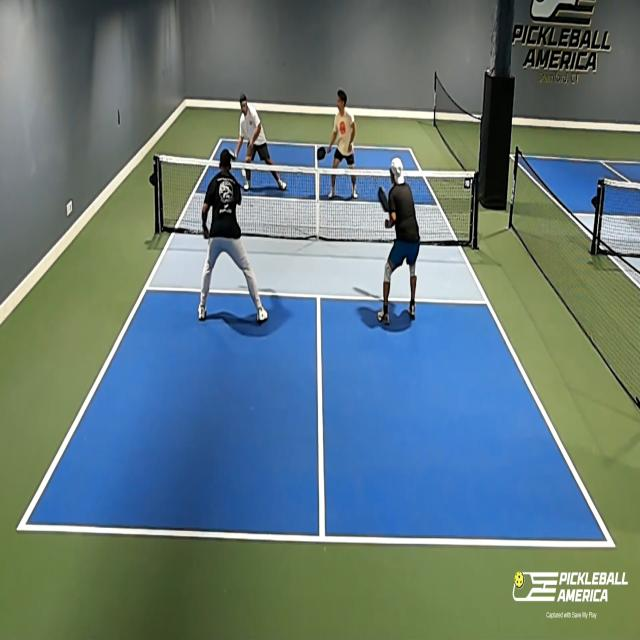Pickleball: (241, 168, 246, 176)
